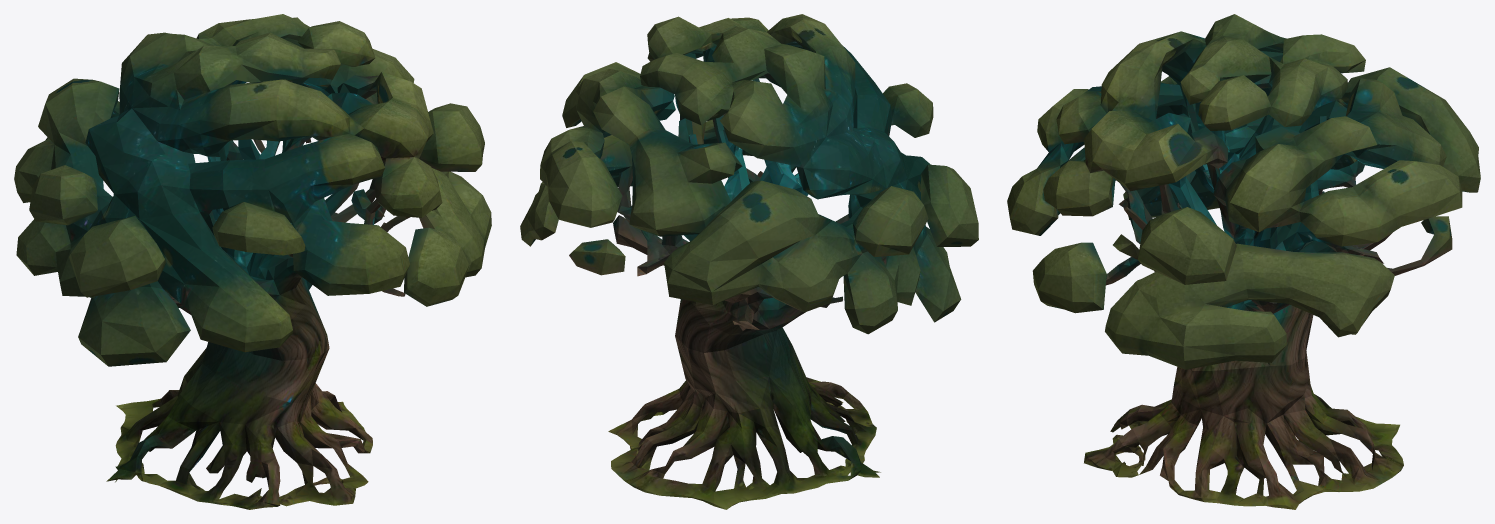
The model's file is tree8.obj.
3 views of the same model, side by side, from view 1: azimuth 30°, elevation 25°; view 2: azimuth 150°, elevation 25°; view 3: azimuth 270°, elevation 25° (orthographic). The views are drawn at different scales.
Parts seen in each view (by area): view 1: tripo_node_650f3add-01a5-4cbc-bfdc-9124d3de4d69; view 2: tripo_node_650f3add-01a5-4cbc-bfdc-9124d3de4d69; view 3: tripo_node_650f3add-01a5-4cbc-bfdc-9124d3de4d69.
Boxes of the visible parts, left/top/right/bottom form: tripo_node_650f3add-01a5-4cbc-bfdc-9124d3de4d69: left=14, top=14, right=491, bottom=509; tripo_node_650f3add-01a5-4cbc-bfdc-9124d3de4d69: left=520, top=14, right=978, bottom=509; tripo_node_650f3add-01a5-4cbc-bfdc-9124d3de4d69: left=1007, top=14, right=1480, bottom=509.
Size of the model in its own units: 0.9845 by 0.9474 by 0.9788.
